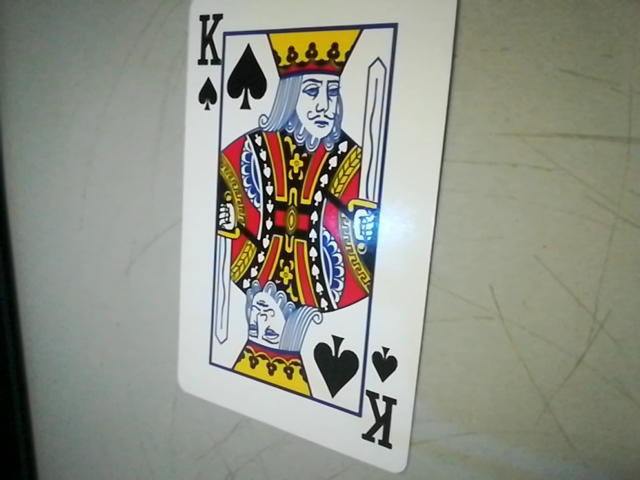ht k: (359, 335, 409, 463)
